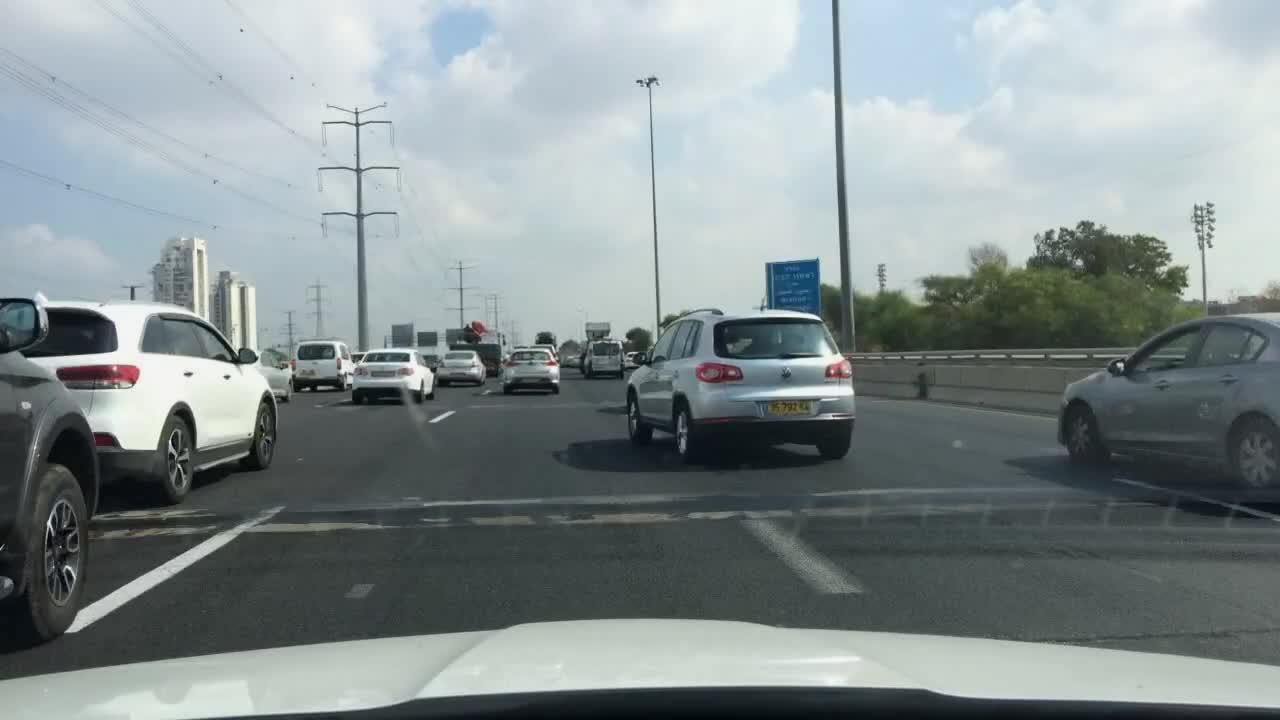Volkswagen: (775, 360, 801, 384)
